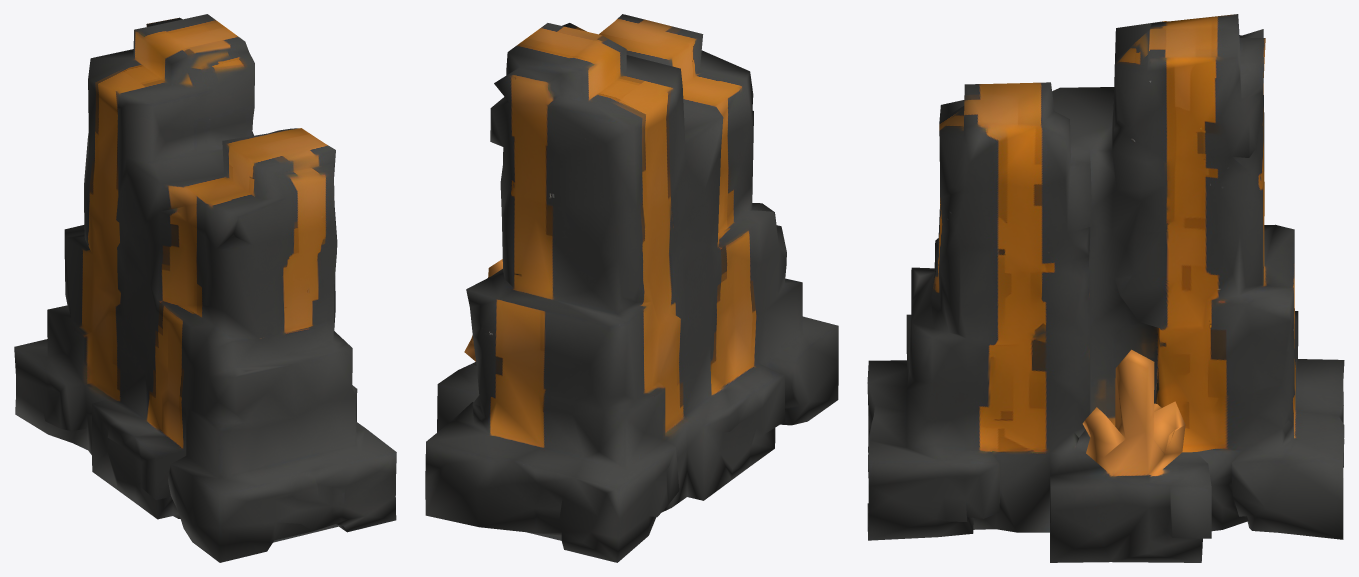
3 renders of one model, left to right at view 1: azimuth 30°, elevation 25°; view 2: azimuth 150°, elevation 25°; view 3: azimuth 270°, elevation 25°, orthographic. The views are drawn at different scales.
Visible parts, largest first — view 1: tripo_node_004bdac5-5500-4fe8-a7c4-8a5a5d9212f0; view 2: tripo_node_004bdac5-5500-4fe8-a7c4-8a5a5d9212f0; view 3: tripo_node_004bdac5-5500-4fe8-a7c4-8a5a5d9212f0.
Part boxes in pixels (left/top/right/bottom): tripo_node_004bdac5-5500-4fe8-a7c4-8a5a5d9212f0: left=14, top=14, right=396, bottom=562; tripo_node_004bdac5-5500-4fe8-a7c4-8a5a5d9212f0: left=425, top=14, right=838, bottom=562; tripo_node_004bdac5-5500-4fe8-a7c4-8a5a5d9212f0: left=867, top=14, right=1344, bottom=562.
Size of the model in its own units: 0.5961 by 1 by 0.9227.
1 material, 1 textured.
